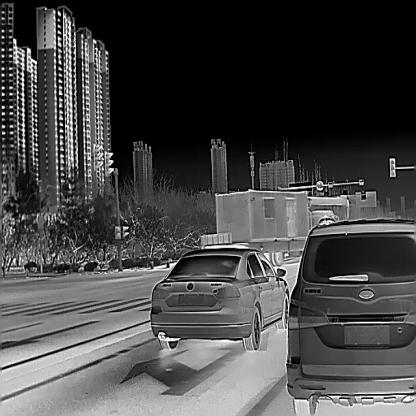bus: (306, 194, 349, 220)
car: (285, 216, 415, 415), (148, 242, 288, 350)
truck: (214, 188, 338, 266)
